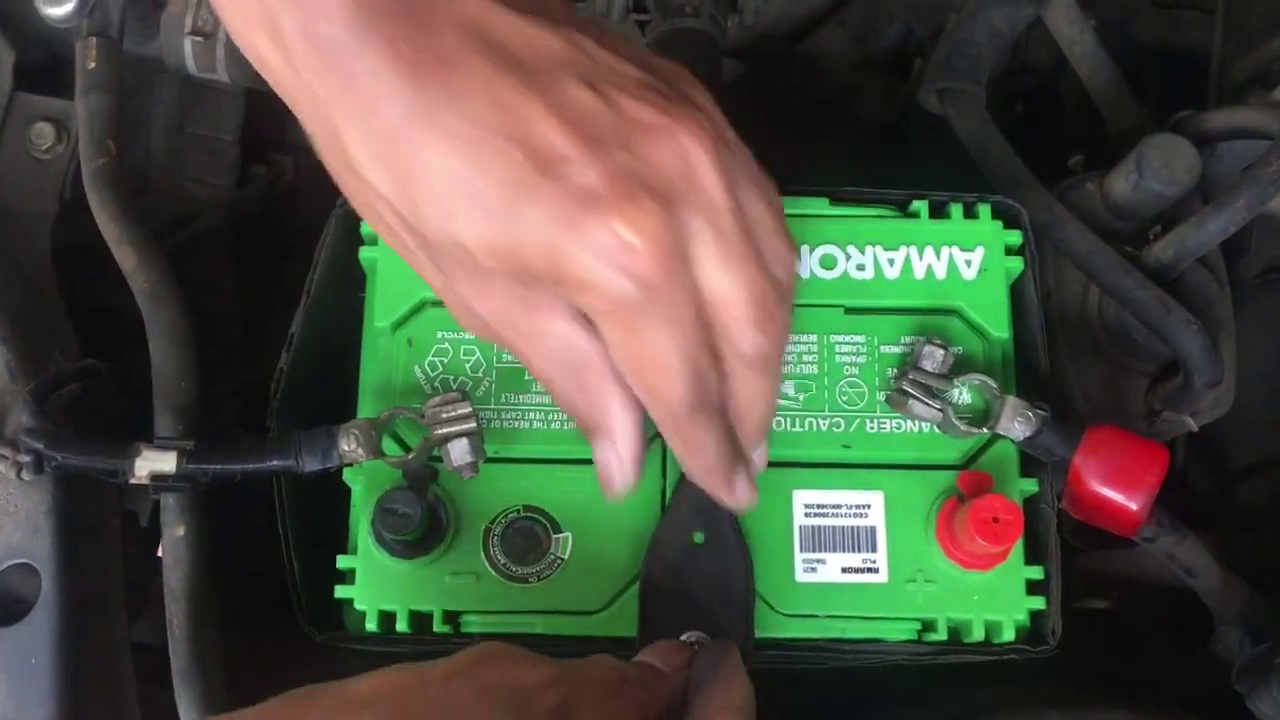battery: (333, 195, 1028, 627)
neg_disconnected: (334, 375, 490, 576)
pos_disconnected: (885, 313, 1134, 575)
